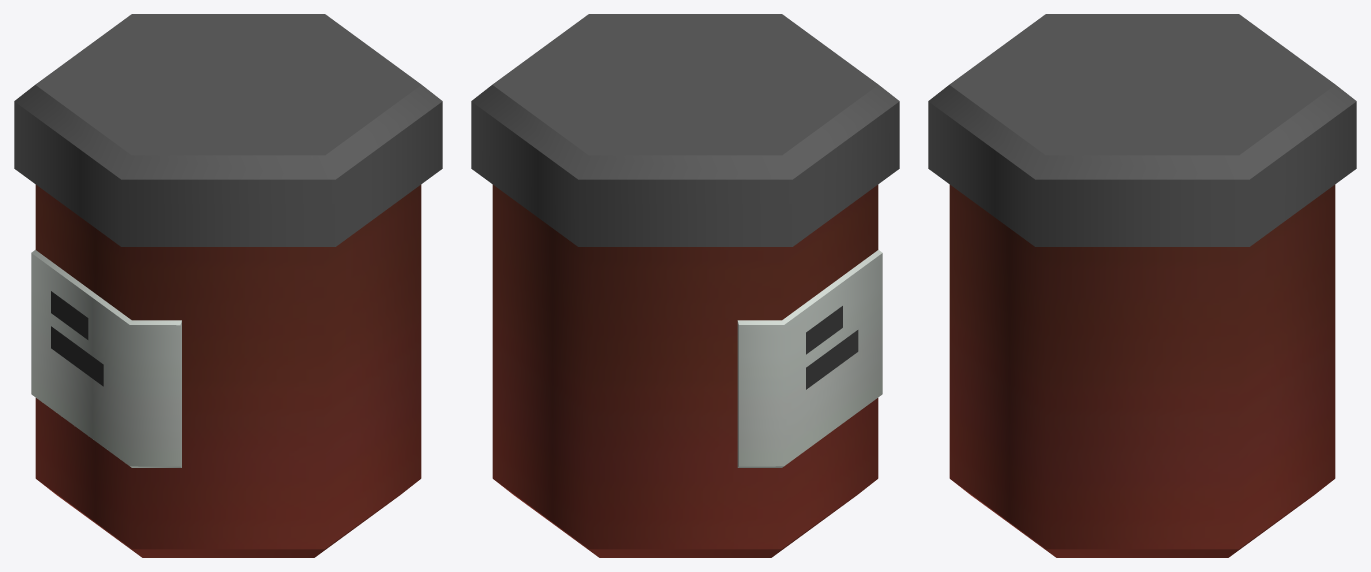
The model's file is Jar_1_L.fbx.
3 renders of one model, left to right at view 1: azimuth 30°, elevation 25°; view 2: azimuth 150°, elevation 25°; view 3: azimuth 270°, elevation 25°, orthographic.
Parts seen in each view (by area): view 1: Jar_1_L; view 2: Jar_1_L; view 3: Jar_1_L.
Boxes of the visible parts, bbox=[...] form: Jar_1_L: bbox=[14, 14, 442, 557]; Jar_1_L: bbox=[471, 14, 899, 557]; Jar_1_L: bbox=[928, 14, 1356, 557].
Size of the model in its own units: 17.99 by 21.94 by 20.77.
